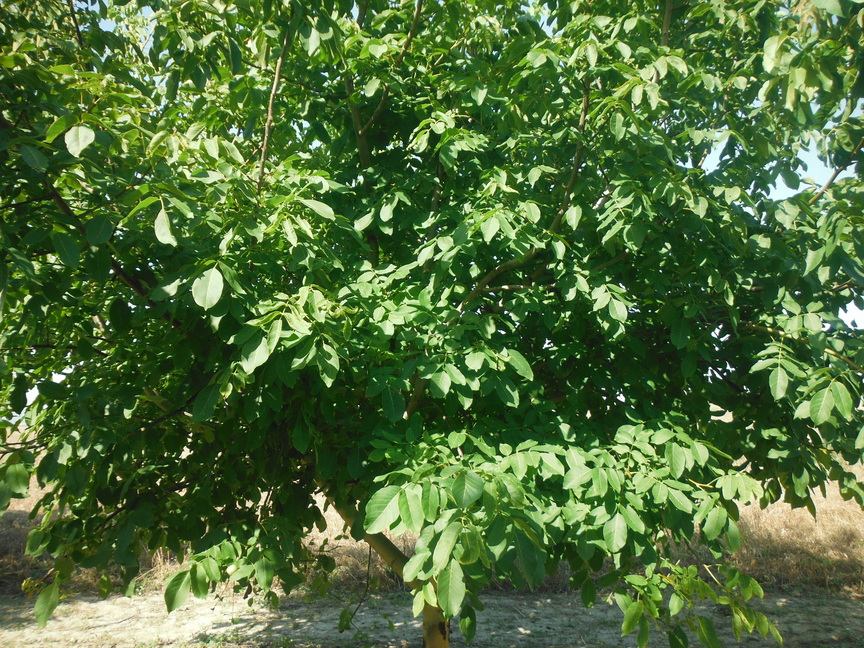walnut: (224, 562, 240, 577)
